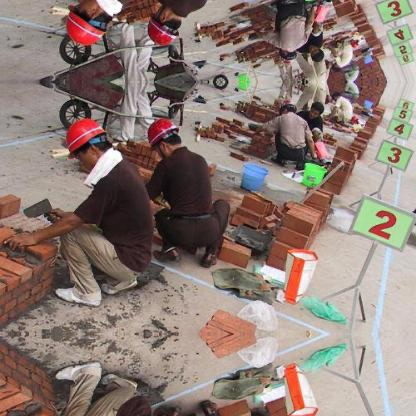No Safety Helmet: (274, 97, 300, 120), (275, 44, 299, 67), (304, 44, 330, 64), (306, 98, 326, 123)
Safety Helmet: (56, 113, 120, 174), (54, 1, 121, 50), (143, 114, 185, 165), (141, 5, 188, 48)
